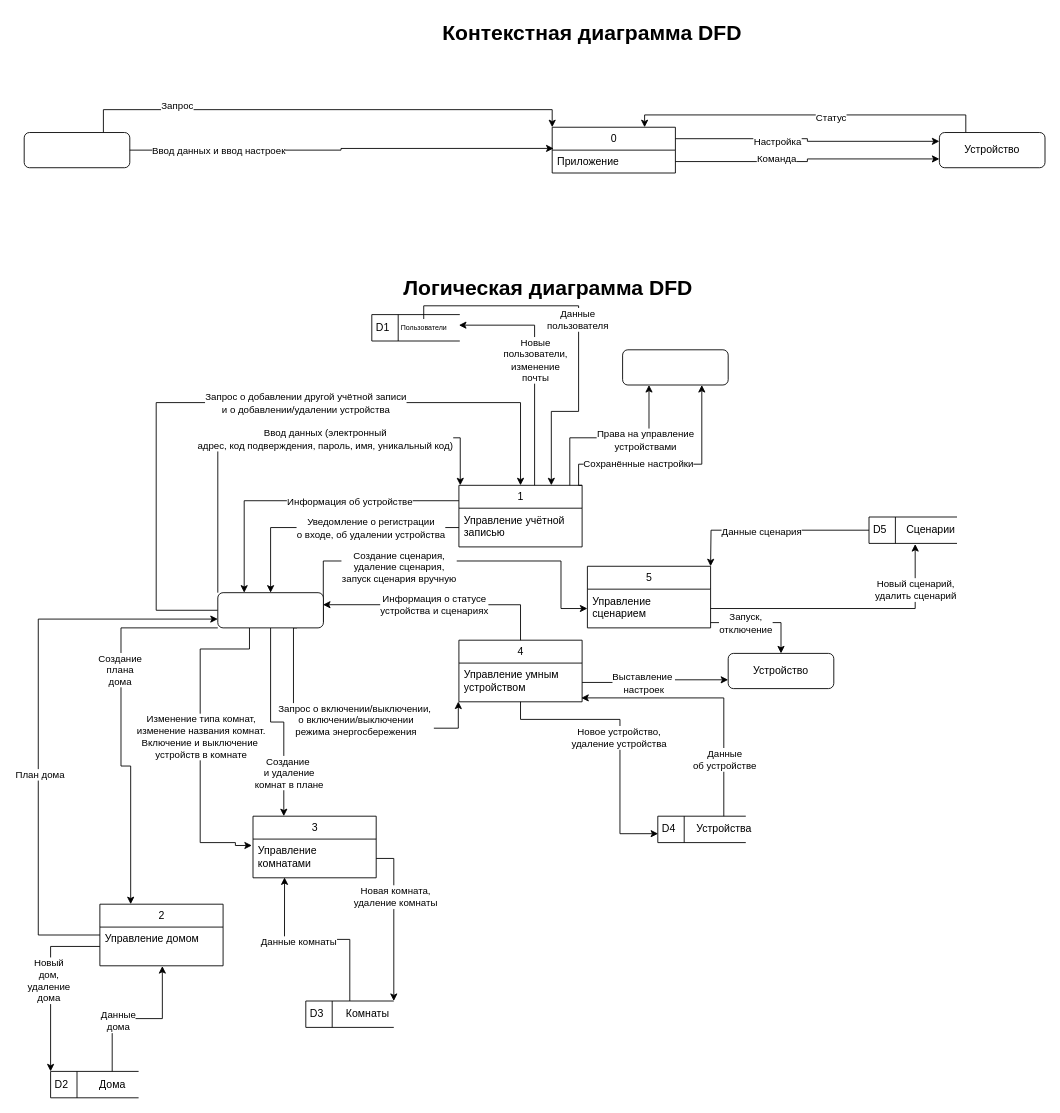
Image size: 1060x1113. Some labels were removed from this diagram. Each missing label, with the centre of its shape:
Пользователь: [76,150]
Пользователь 1: [270,610]
Пользователь 2: [675,367]
